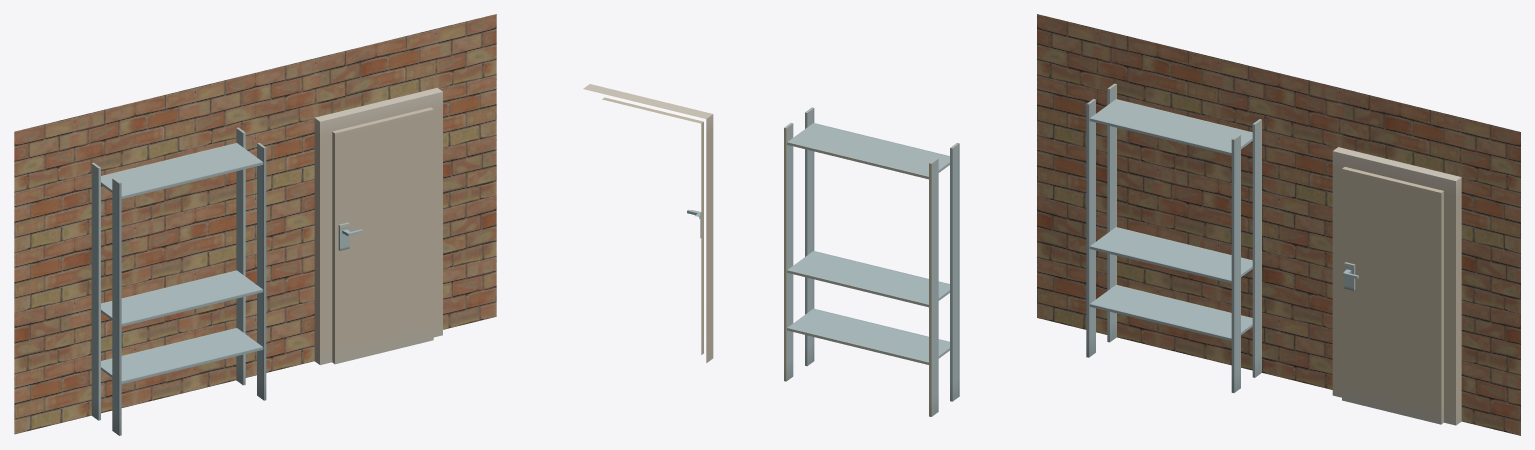
File: teen22.gltf
3 renders of one model, left to right at view 1: azimuth 30°, elevation 25°; view 2: azimuth 150°, elevation 25°; view 3: azimuth 330°, elevation 25°, orthographic.
Visible parts, largest first — view 1: teen22; view 2: teen22; view 3: teen22.
Boxes of the visible parts, left/top/right/bottom form: teen22: left=14, top=14, right=496, bottom=435; teen22: left=583, top=84, right=959, bottom=416; teen22: left=1037, top=14, right=1520, bottom=435.
Size of the model in its own units: 400 by 240 by 42.
Materials: 1 (1 with a texture image).
